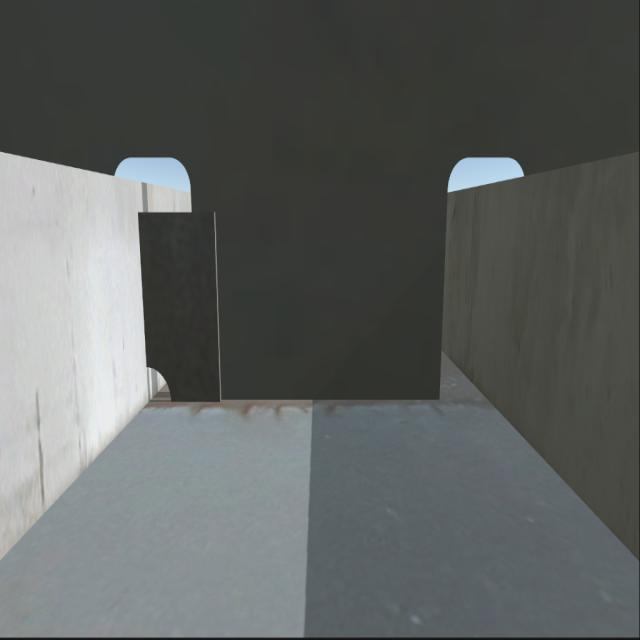fillet_hole: (146, 362, 181, 405)
fillet_yong_jeop_jang: (172, 396, 439, 408)
longi_yong_jeop_jang: (132, 218, 148, 362)
plate_CP01: (135, 214, 215, 399)
